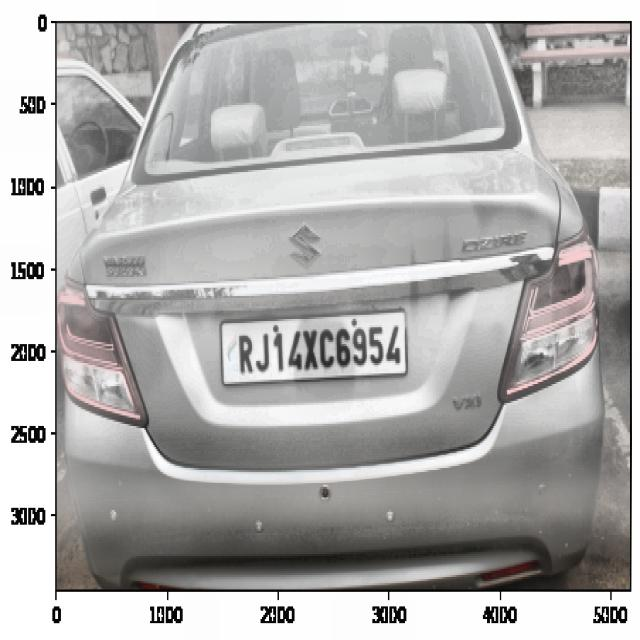license_plate: (227, 315, 407, 382)
